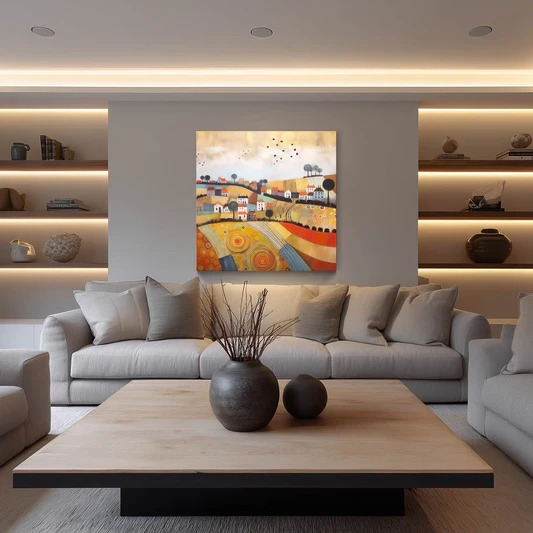painting: (195, 131, 337, 272)
